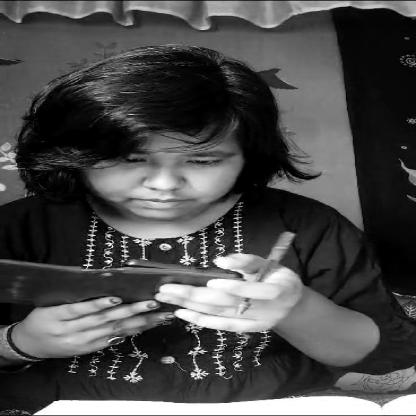Normal: (101, 129, 273, 222)
